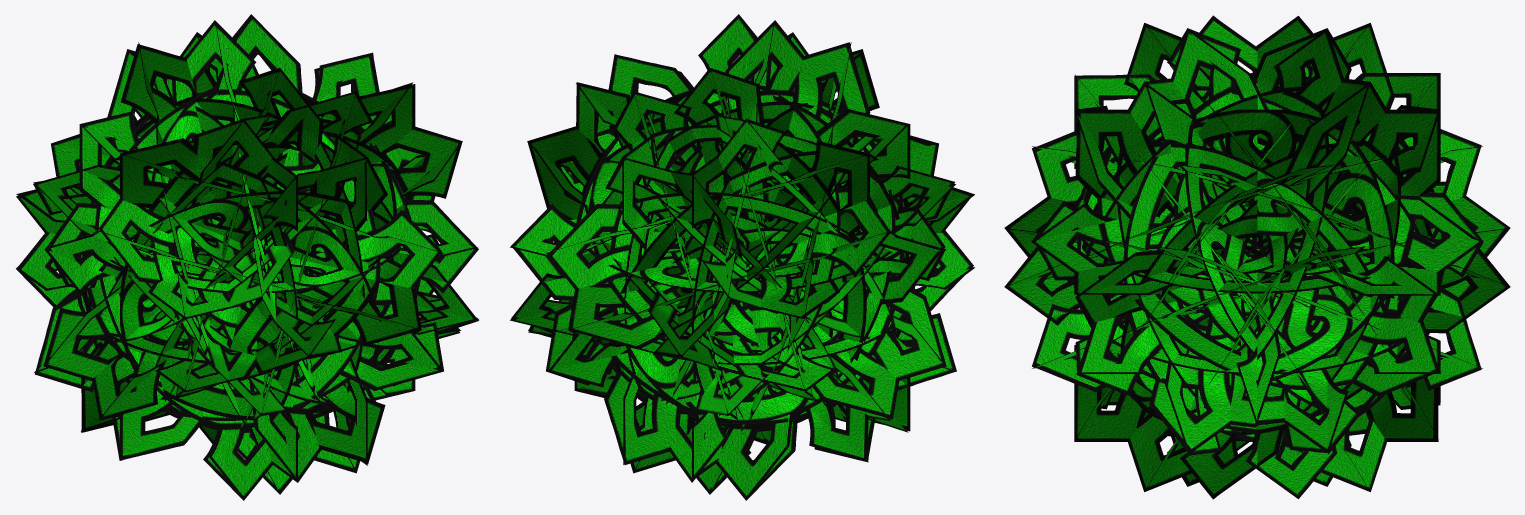
Rendered from 23GreatRhombidodecahedron.gltf.
The picture shows the model from 3 angles, left to right: view 1: azimuth 30°, elevation 25°; view 2: azimuth 150°, elevation 25°; view 3: azimuth 270°, elevation 25°; orthographic projection. The views are drawn at different scales.
Parts seen in each view (by area): view 1: 1GreatRhombidodecahedron; view 2: 1GreatRhombidodecahedron; view 3: 1GreatRhombidodecahedron.
Part boxes in pixels (<box>): 1GreatRhombidodecahedron: <box>16,14,478,500</box>; 1GreatRhombidodecahedron: <box>510,14,974,500</box>; 1GreatRhombidodecahedron: <box>1004,15,1510,499</box>.
Size of the model in its own units: 1.38 by 1.38 by 1.38.
1 material, 1 textured.
